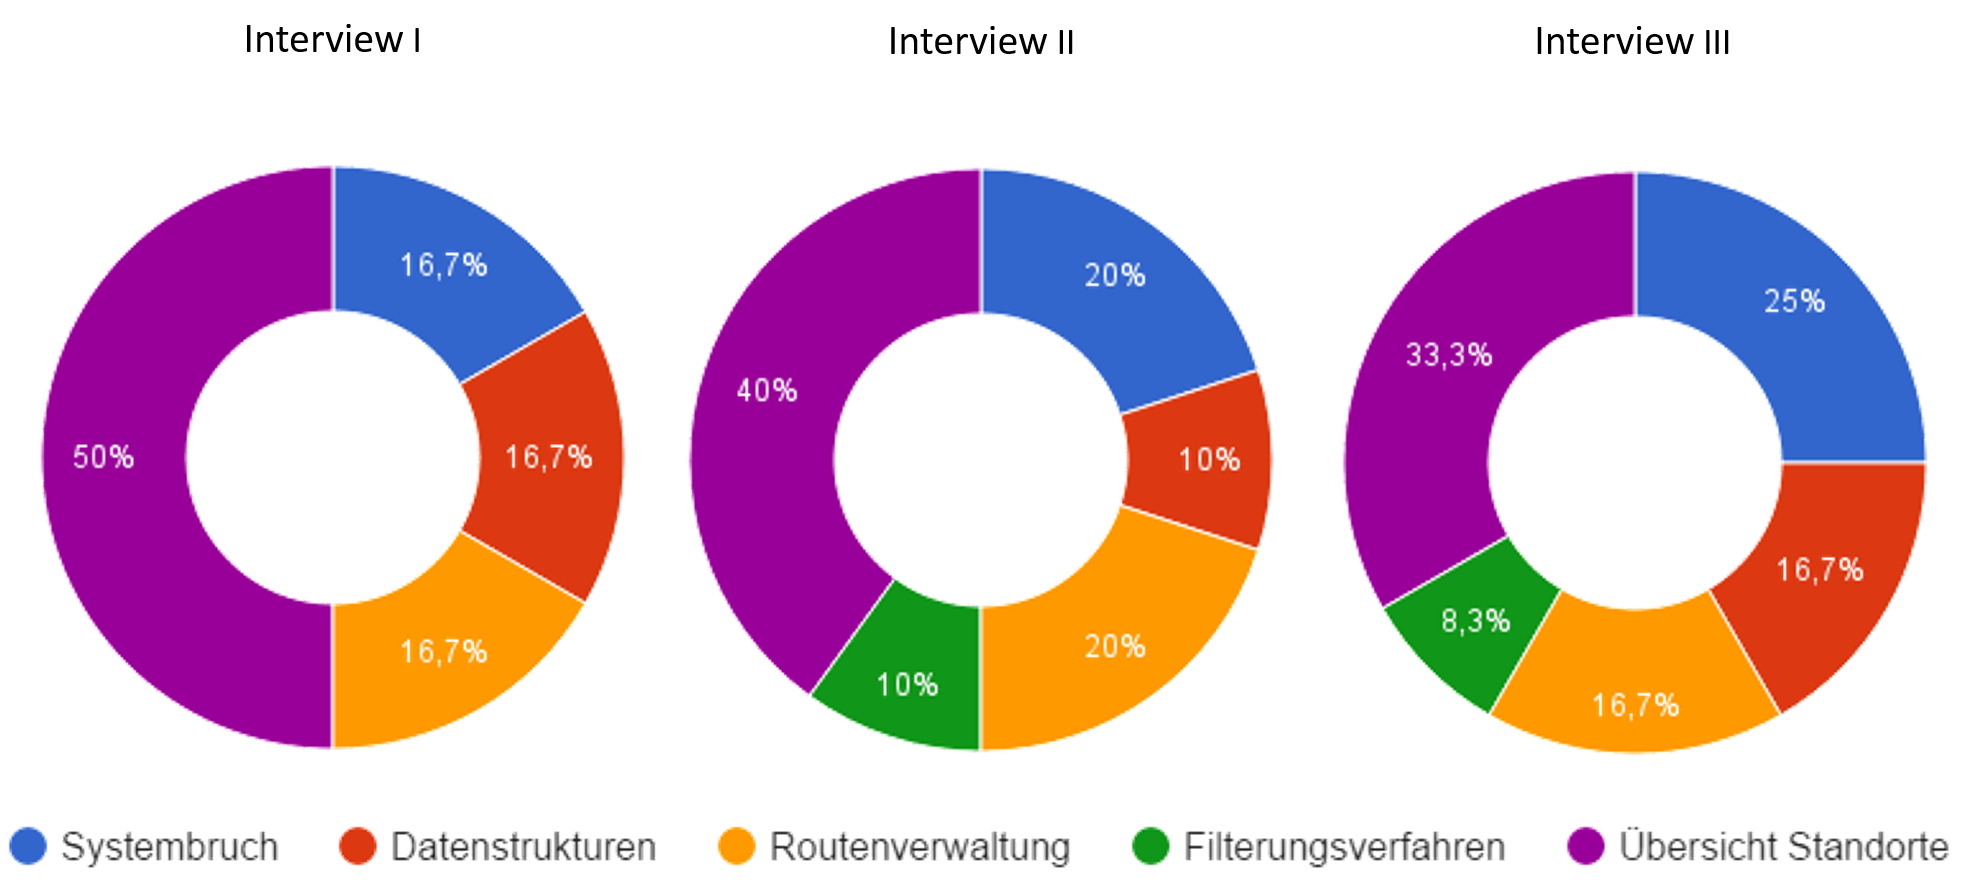

Layout of this report page (visuals, bound fields, positions):
{"tool":"powerbi","page":{"name":"Seite 1","canvas":[1280,720],"ordinal":4},"visuals":[{"type":"donutChart","fields":{"Y":["Sum(Probleme Übersicht.Aufgeteilte Daten)","Sum(Probleme Übersicht.Datenstrukturen)","Sum(Probleme Übersicht.Export)","Sum(Probleme Übersicht.Filterungsverfahren)","Sum(Probleme Übersicht.Routenverwaltung)","Sum(Probleme Übersicht.Visualisierung Geodaten)"]},"box":[1.3,0,1277,239.7],"z":1},{"type":"donutChart","fields":{"Y":["Sum(Probleme Übersicht.Aufgeteilte Daten)","Sum(Probleme Übersicht.Datenstrukturen)","Sum(Probleme Übersicht.Export)","Sum(Probleme Übersicht.Filterungsverfahren)","Sum(Probleme Übersicht.Routenverwaltung)","Sum(Probleme Übersicht.Visualisierung Geodaten)"]},"box":[0,243.2,1277,239.7],"z":1},{"type":"donutChart","fields":{"Y":["Sum(Probleme Übersicht.Aufgeteilte Daten)","Sum(Probleme Übersicht.Datenstrukturen)","Sum(Probleme Übersicht.Export)","Sum(Probleme Übersicht.Filterungsverfahren)","Sum(Probleme Übersicht.Routenverwaltung)","Sum(Probleme Übersicht.Visualisierung Geodaten)"]},"box":[0.9,478.5,1277,239.7],"z":1}]}

Visuals, with their boxes on the page's 1280x720 design canvas (x1, y1, x2, y2). These are canvas units, not pixel positions in the 1965x893 screenshot, which may show the page scaled, cropped or inside an application window:
donutChart - Sum(Probleme Übersicht.Aufgeteilte Daten) x Sum(Probleme Übersicht.Datenstrukturen): {"left": 1, "top": 0, "right": 1278, "bottom": 240}
donutChart - Sum(Probleme Übersicht.Aufgeteilte Daten) x Sum(Probleme Übersicht.Datenstrukturen): {"left": 0, "top": 243, "right": 1277, "bottom": 483}
donutChart - Sum(Probleme Übersicht.Aufgeteilte Daten) x Sum(Probleme Übersicht.Datenstrukturen): {"left": 1, "top": 478, "right": 1278, "bottom": 718}
